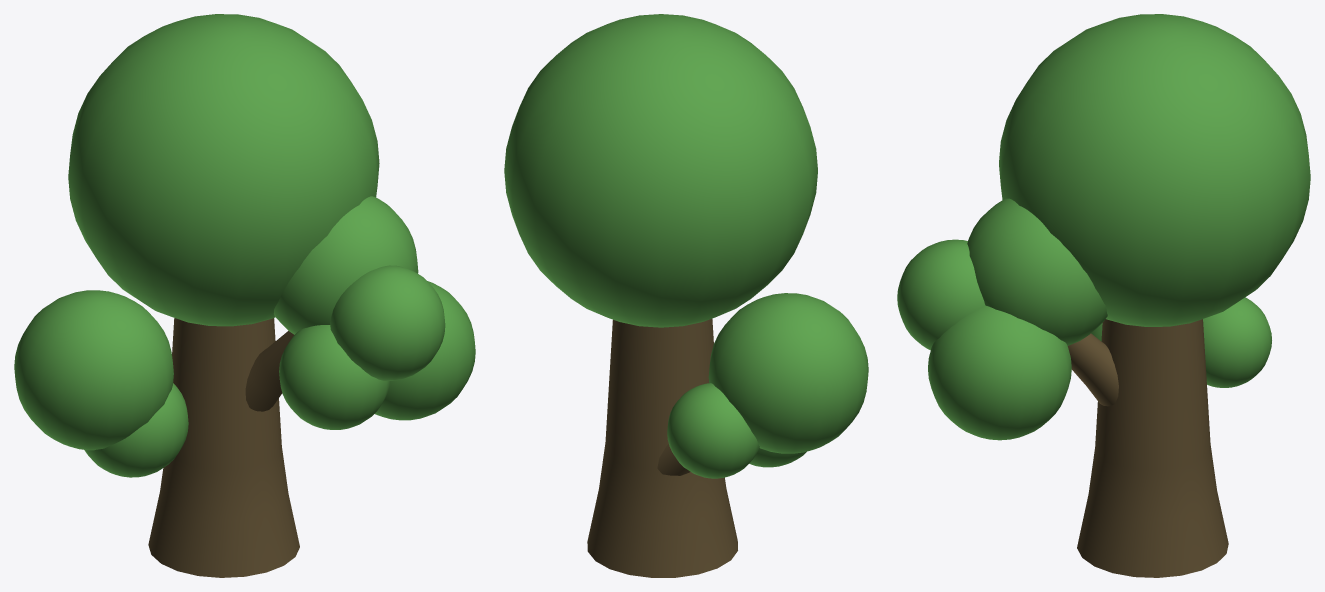
File: Arbol1.fbx
3 renders of one model, left to right at view 1: azimuth 30°, elevation 25°; view 2: azimuth 150°, elevation 25°; view 3: azimuth 270°, elevation 25°, orthographic.
Visible parts, largest first — view 1: pSphere8; view 2: pSphere8; view 3: pSphere8.
Boxes of the visible parts, x1,y1,x2,y2 form: pSphere8: [14, 14, 475, 577]; pSphere8: [504, 14, 868, 577]; pSphere8: [897, 14, 1310, 577].
Size of the model in its own units: 5.44 by 7.39 by 5.35.
